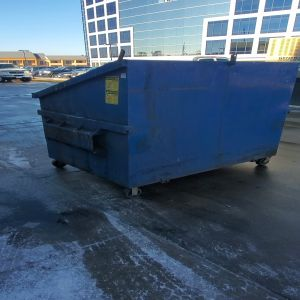Dumpster: (37, 58, 300, 199)
